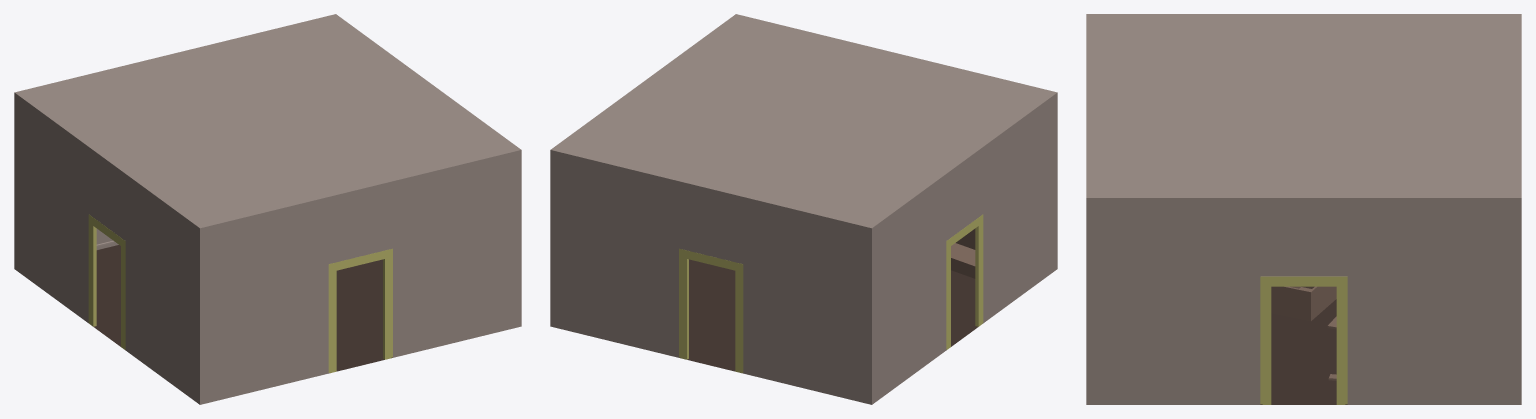
File: Room28_JunkRoom.fbx
The picture shows the model from 3 angles, left to right: view 1: azimuth 30°, elevation 25°; view 2: azimuth 150°, elevation 25°; view 3: azimuth 270°, elevation 25°; orthographic projection. The views are drawn at different scales.
Parts seen in each view (by area): view 1: Roof, WallSlicedPosZ, WallSlicedPosX, WallSlicedPosZ26, Floor, WallSlicedPosX7, DoorFramePosZ, DoorFramePosX, WallSlicedNegX, WallSlicedNegZ; view 2: Roof, WallSlicedNegZ, WallSlicedPosX, WallSlicedNegZ25, Floor, WallSlicedPosX7, DoorFrameNegZ, DoorFramePosX, WallSlicedPosZ, WallSlicedNegX, pCube69, pCube70; view 3: Roof, WallSlicedNegX, WallSlicedNegX13, Floor, DoorFrameNegX, pCube168, WallSlicedNegZ, WallSlicedPosZ, WallSlicedPosX.
Part boxes in pixels (x1,y1,x2,y2): Roof: (17, 15, 518, 227); WallSlicedPosZ: (199, 149, 521, 364); WallSlicedPosX: (14, 92, 201, 364); WallSlicedPosZ26: (198, 286, 521, 404); Floor: (89, 245, 392, 373); WallSlicedPosX7: (14, 229, 201, 403); DoorFramePosZ: (328, 248, 392, 372); DoorFramePosX: (88, 214, 125, 349); WallSlicedNegX: (335, 14, 521, 286); WallSlicedNegZ: (14, 14, 336, 228); Roof: (553, 15, 1054, 227); WallSlicedNegZ: (550, 149, 872, 364); WallSlicedPosX: (870, 92, 1057, 364); WallSlicedNegZ25: (550, 286, 872, 404); Floor: (679, 259, 982, 373); WallSlicedPosX7: (869, 230, 1057, 404); DoorFrameNegZ: (679, 248, 743, 372); DoorFramePosX: (946, 214, 983, 349); WallSlicedPosZ: (736, 14, 1057, 228); WallSlicedNegX: (550, 14, 736, 285); pCube69: (951, 243, 975, 270); pCube70: (951, 228, 975, 278); Roof: (1088, 14, 1519, 197); WallSlicedNegX: (1086, 197, 1521, 357); WallSlicedNegX13: (1086, 357, 1521, 404); Floor: (1260, 299, 1347, 404); DoorFrameNegX: (1260, 276, 1347, 404); pCube168: (1271, 286, 1336, 321); WallSlicedNegZ: (1520, 14, 1521, 357); WallSlicedPosZ: (1086, 14, 1087, 357); WallSlicedPosX: (1086, 14, 1521, 14).
Bounding box in the file's own units: 800 × 422 × 800.
